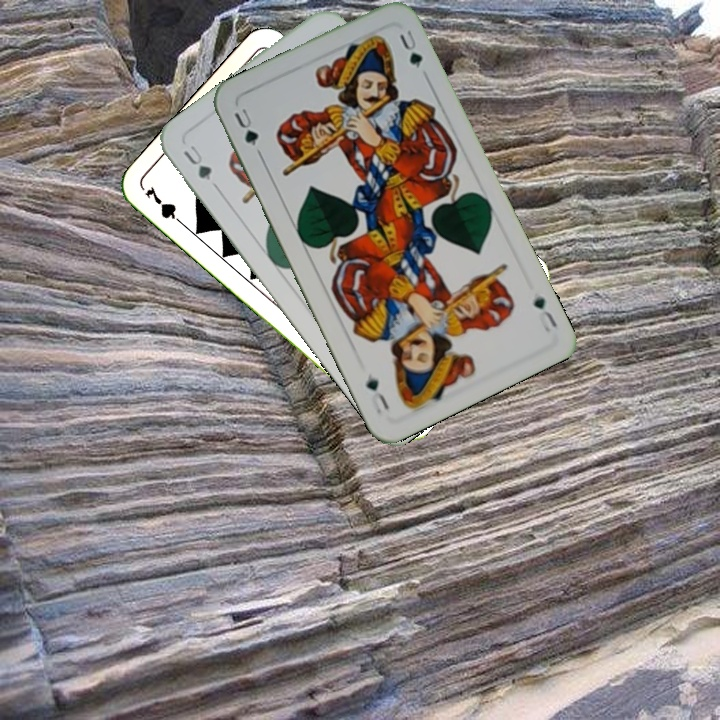G7: (140, 182, 189, 230)
GU: (179, 141, 220, 191), (229, 103, 261, 149), (529, 291, 560, 336)
